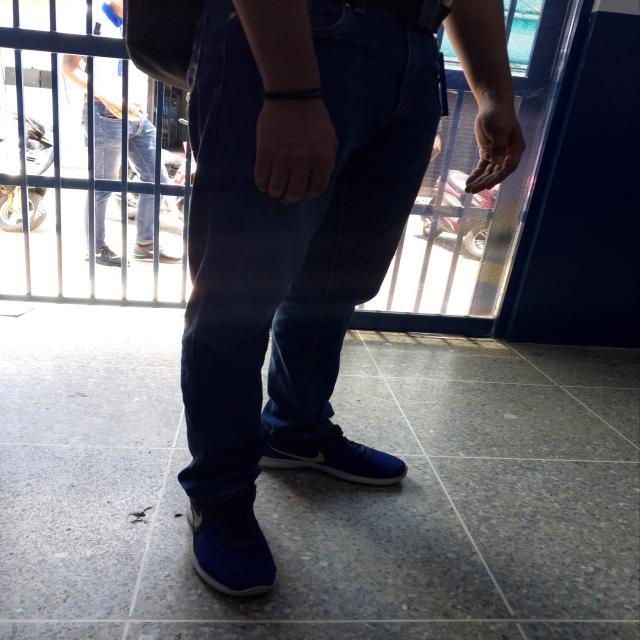pantalon_oscuro: (175, 0, 444, 505)
